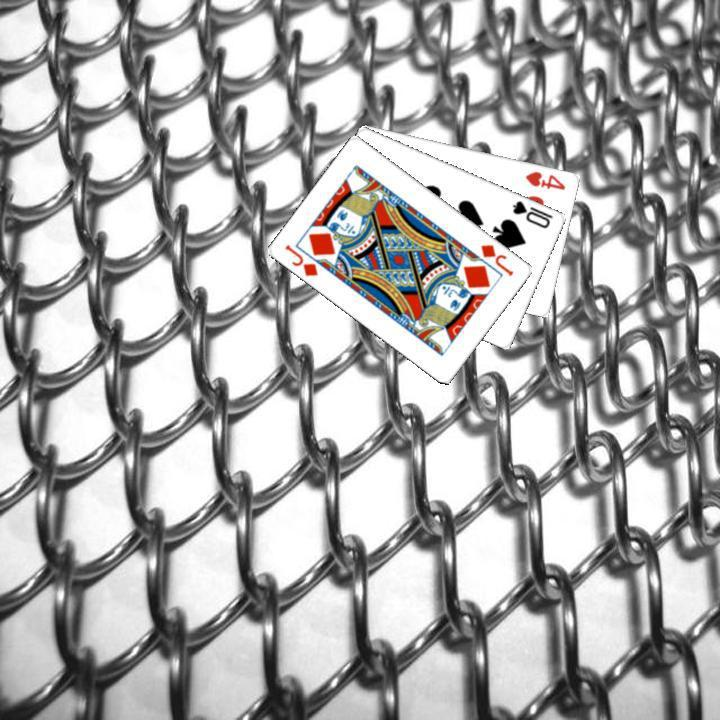10: (508, 196, 555, 230)
4: (521, 166, 568, 191)
J: (477, 240, 516, 278), (281, 240, 320, 278)
